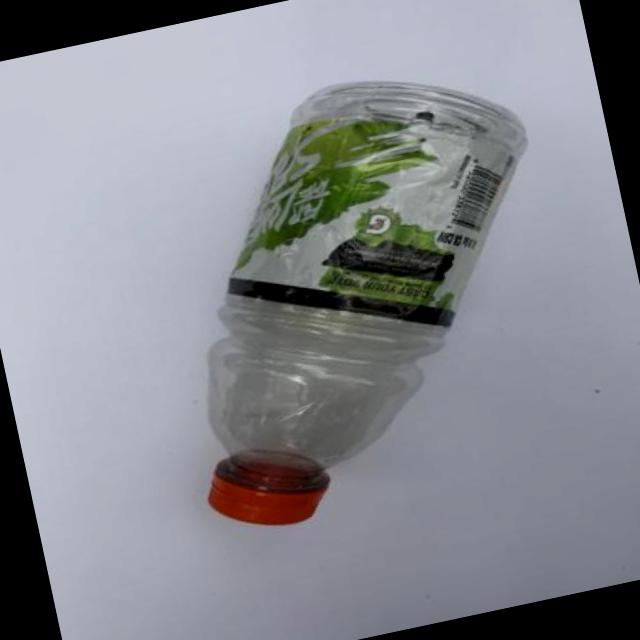bottle: (209, 82, 524, 525)
